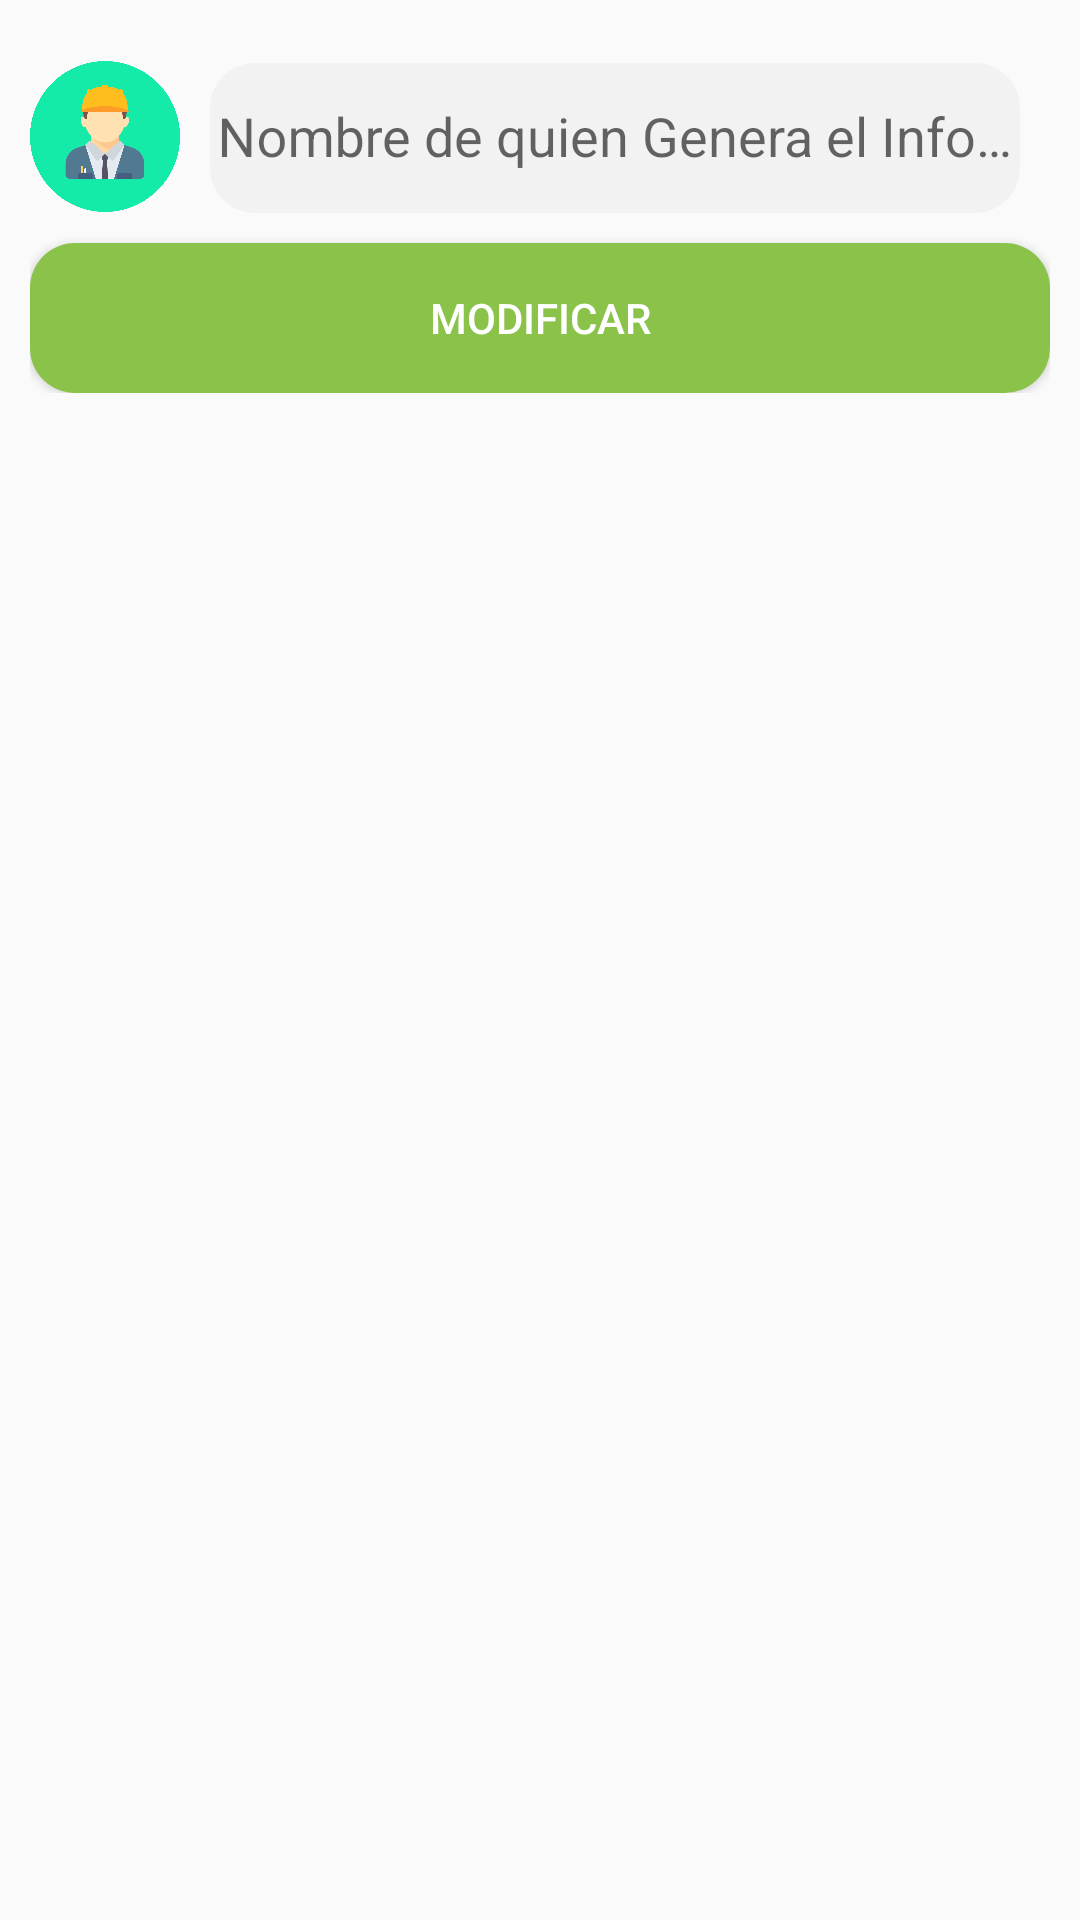

Icon click points for this 1080*1920 phone screenshot, format (x=x, y=y):
ingeniero: (x=105, y=136)
